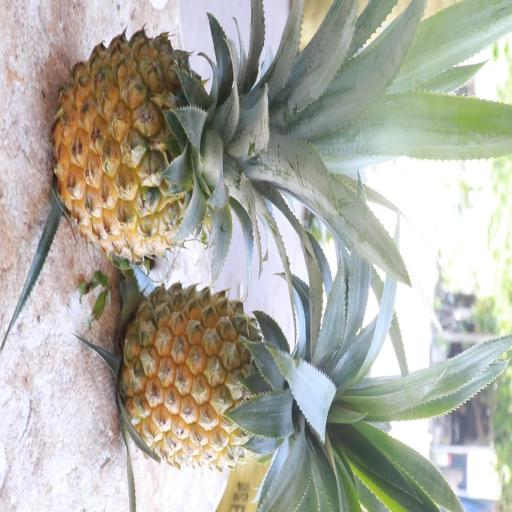Pineapple - v8 v1: (46, 22, 299, 268), (114, 278, 353, 480)
